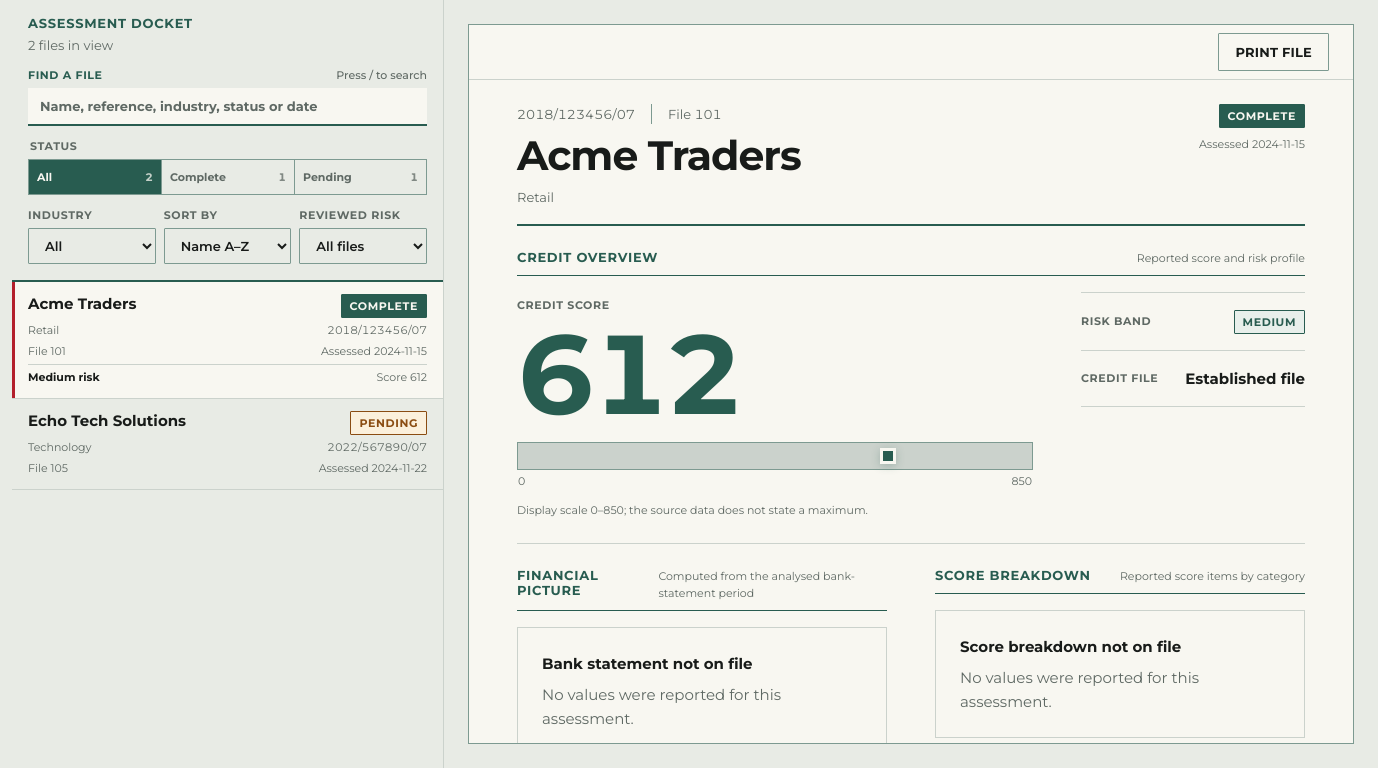
Test: App docket states › moves selection when filters remove the open file and clears stale evidence immediately
Expected: the text "612" is shown, [517, 306, 740, 442]
Click the button with aria-label "Pending: 1" at (360, 177), box [294, 159, 427, 195]
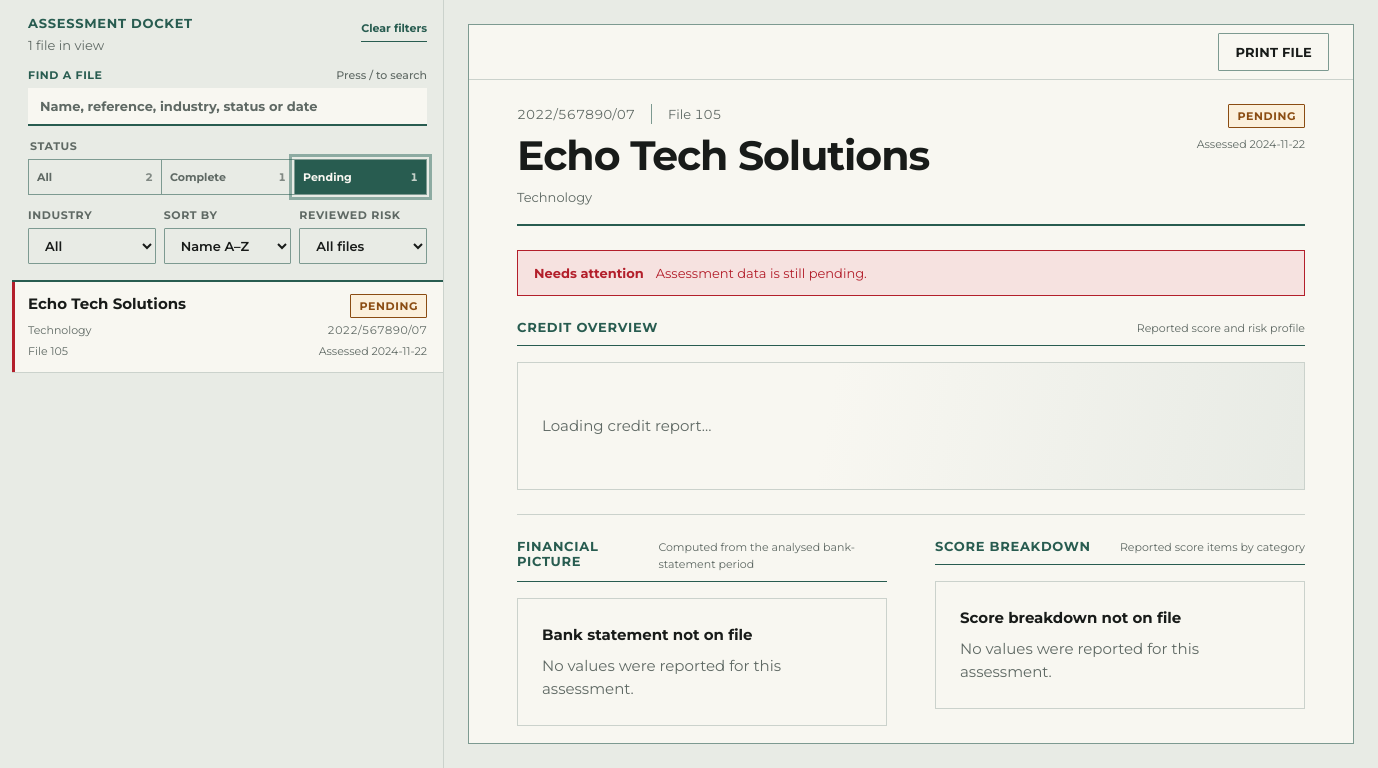
Expected: the heading "Echo Tech Solutions" is shown, [517, 132, 929, 179]
Expected: the button "612" is gone
Expected: the text "Loading credit report…" is shown, [542, 414, 712, 437]
